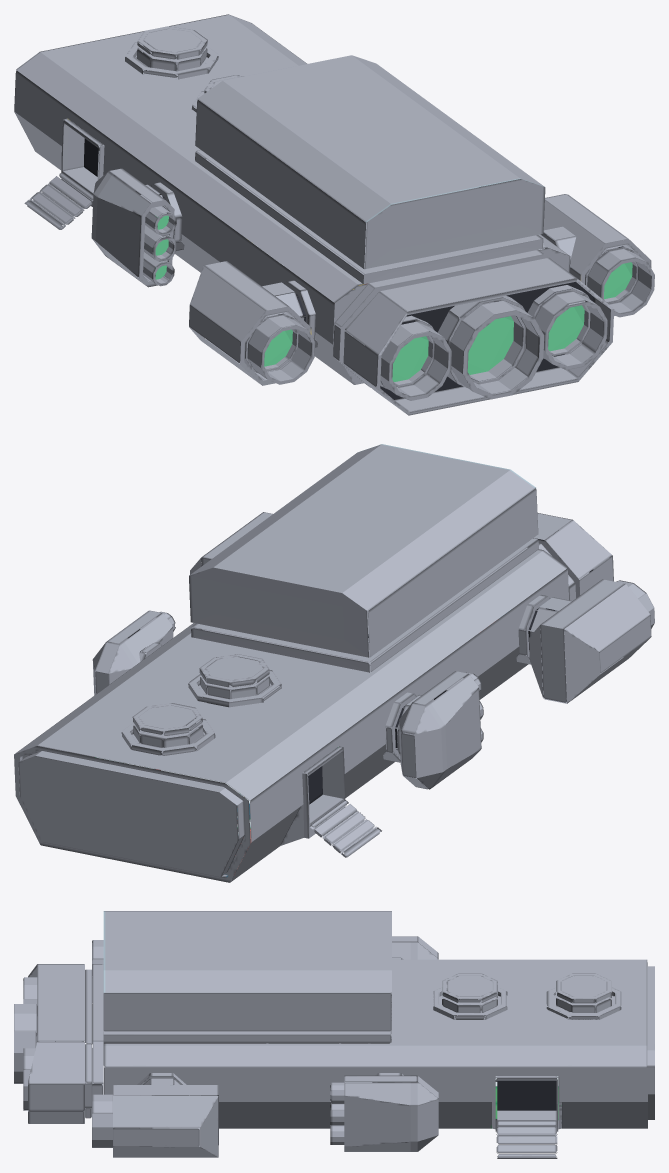
Rendered from behemoth (1).fbx.
3 renders of one model, top to bottom at view 1: azimuth 30°, elevation 25°; view 2: azimuth 150°, elevation 25°; view 3: azimuth 270°, elevation 25°, orthographic. The views are drawn at different scales.
Parts seen in each view (by area): view 1: beveled_cuboid_1, beveled_cuboid, beveled_cuboid_4, tube, tube_6, beveled_cuboid_9, beveled_cuboid_3, beveled_cuboid_8, tube_5, tube_4, beveled_cuboid_7, beveled_cuboid_5 (+11 smaller); view 2: beveled_cuboid, beveled_cuboid_1, beveled_cuboid_8, beveled_cuboid_9, beveled_cuboid_3, beveled_cuboid_4, cuboid_1, tube_11, tube_9, tube_14, tube_7, tube_12 (+4 smaller); view 3: beveled_cuboid, beveled_cuboid_1, beveled_cuboid_4, beveled_cuboid_8, beveled_cuboid_7, beveled_cuboid_3, cuboid, plane, beveled_cuboid_5, tube_6, tube_11, tube_9 (+8 smaller).
Part boxes in pixels (bbox=[...]): beveled_cuboid_1: bbox=[195, 55, 545, 268]; beveled_cuboid: bbox=[14, 14, 570, 384]; beveled_cuboid_4: bbox=[343, 258, 614, 415]; tube: bbox=[437, 295, 544, 399]; tube_6: bbox=[244, 244, 654, 384]; beveled_cuboid_9: bbox=[189, 261, 311, 385]; beveled_cuboid_3: bbox=[195, 150, 543, 284]; beveled_cuboid_8: bbox=[91, 168, 174, 287]; tube_5: bbox=[527, 285, 607, 369]; tube_4: bbox=[353, 315, 451, 400]; beveled_cuboid_7: bbox=[543, 194, 651, 315]; beveled_cuboid_5: bbox=[333, 250, 548, 387]; beveled_cuboid: bbox=[14, 547, 568, 882]; beveled_cuboid_1: bbox=[189, 444, 538, 657]; beveled_cuboid_8: bbox=[92, 610, 481, 789]; beveled_cuboid_9: bbox=[529, 579, 651, 703]; beveled_cuboid_3: bbox=[191, 538, 538, 672]; beveled_cuboid_4: bbox=[533, 513, 613, 598]; cuboid_1: bbox=[310, 800, 381, 857]; tube_11: bbox=[132, 703, 202, 736]; tube_9: bbox=[199, 654, 269, 687]; tube_14: bbox=[121, 718, 215, 755]; tube_7: bbox=[188, 670, 281, 707]; tube_12: bbox=[133, 719, 203, 747]; beveled_cuboid: bbox=[103, 959, 654, 1131]; beveled_cuboid_1: bbox=[103, 911, 391, 1031]; beveled_cuboid_4: bbox=[28, 964, 84, 1123]; beveled_cuboid_8: bbox=[344, 936, 438, 1151]; beveled_cuboid_7: bbox=[113, 1085, 218, 1157]; beveled_cuboid_3: bbox=[103, 992, 391, 1043]; cuboid: bbox=[496, 1121, 557, 1158]; plane: bbox=[497, 1080, 556, 1110]; beveled_cuboid_5: bbox=[92, 964, 103, 1094]; tube_6: bbox=[92, 940, 152, 1147]; tube_11: bbox=[556, 973, 611, 1003]; tube_9: bbox=[442, 973, 497, 1002].
Bounding box in the file's own units: 1089 × 468 × 1722.
1 material, 1 textured.
